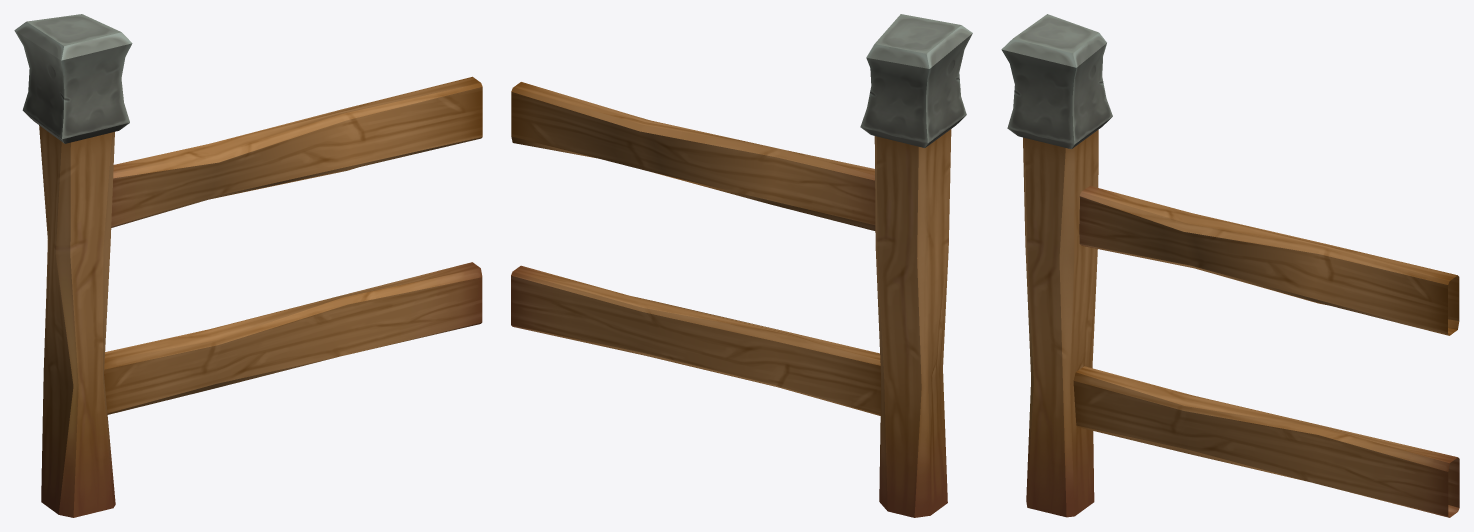
The model's file is Fence #1 - Bars.fbx.
3 renders of one model, left to right at view 1: azimuth 30°, elevation 25°; view 2: azimuth 150°, elevation 25°; view 3: azimuth 330°, elevation 25°, orthographic.
Parts seen in each view (by area): view 1: Fence #1 - Bars; view 2: Fence #1 - Bars; view 3: Fence #1 - Bars.
Part boxes in pixels (x1=…): Fence #1 - Bars: x1=14, y1=14, x2=482, y2=517; Fence #1 - Bars: x1=511, y1=14, x2=972, y2=517; Fence #1 - Bars: x1=1001, y1=14, x2=1459, y2=517.
Size of the model in its own units: 142 by 147 by 25.37.
1 material, 1 textured.
